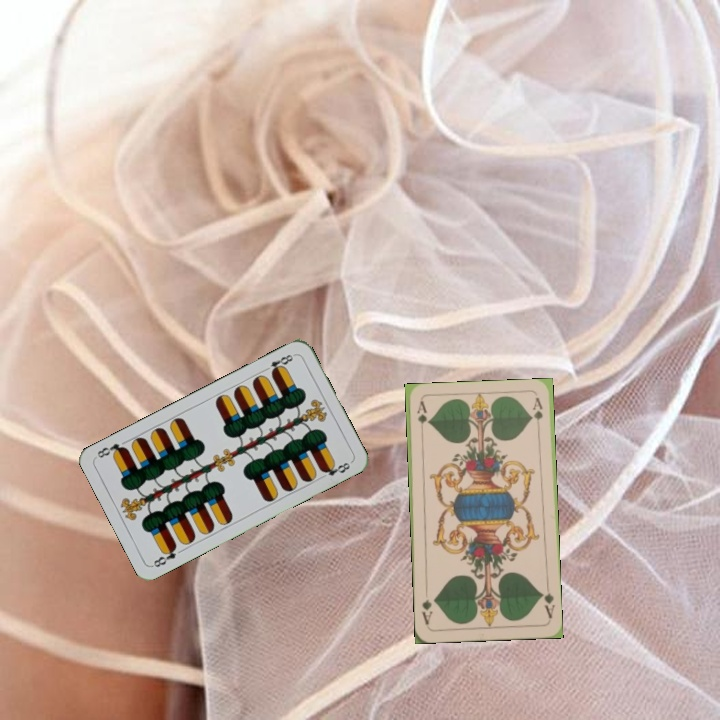E8: (260, 350, 298, 377), (149, 541, 179, 570)
GA: (537, 581, 557, 621), (413, 398, 429, 438)
